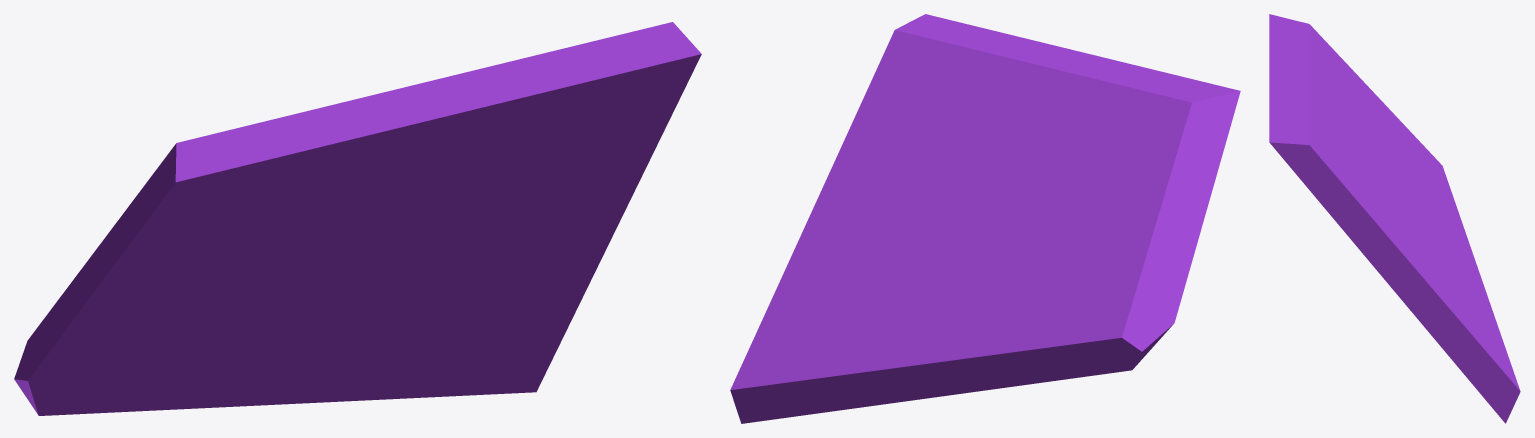
The model's file is Window_125_2_chunks.fbx.
The picture shows the model from 3 angles, left to right: view 1: azimuth 30°, elevation 25°; view 2: azimuth 150°, elevation 25°; view 3: azimuth 270°, elevation 25°; orthographic projection. The views are drawn at different scales.
Parts seen in each view (by area): view 1: Window_125_2_7, Window_125_2_1, Window_125_2_9, Window_125_2_0, Window_125_2_3, Window_125_2_6, Window_125_2_4, Window_125_2_8, Window_125_2_2; view 2: Window_125_2_1, Window_125_2_3, Window_125_2_7, Window_125_2_4, Window_125_2_9, Window_125_2_5, Window_125_2_8, Window_125_2_2, Window_125_2_6, Window_125_2_0; view 3: Window_125_2_3, Window_125_2_4, Window_125_2_9, Window_125_2_7, Window_125_2_1, Window_125_2_6, Window_125_2_5, Window_125_2_8, Window_125_2_2.
Part boxes in pixels (bbox=[...]): Window_125_2_7: bbox=[121, 113, 395, 285]; Window_125_2_1: bbox=[14, 205, 284, 415]; Window_125_2_9: bbox=[297, 22, 700, 183]; Window_125_2_0: bbox=[207, 214, 488, 407]; Window_125_2_3: bbox=[329, 254, 603, 402]; Window_125_2_6: bbox=[371, 53, 701, 225]; Window_125_2_4: bbox=[426, 143, 657, 298]; Window_125_2_8: bbox=[298, 222, 465, 281]; Window_125_2_2: bbox=[376, 288, 437, 346]; Window_125_2_1: bbox=[985, 176, 1215, 388]; Window_125_2_3: bbox=[730, 241, 923, 423]; Window_125_2_7: bbox=[1041, 68, 1240, 223]; Window_125_2_4: bbox=[798, 91, 991, 268]; Window_125_2_9: bbox=[887, 14, 1146, 138]; Window_125_2_5: bbox=[882, 199, 1017, 366]; Window_125_2_8: bbox=[899, 110, 1051, 231]; Window_125_2_2: bbox=[920, 221, 1030, 395]; Window_125_2_6: bbox=[867, 14, 957, 118]; Window_125_2_0: bbox=[905, 378, 999, 401]; Window_125_2_3: bbox=[1409, 259, 1520, 423]; Window_125_2_4: bbox=[1331, 170, 1436, 308]; Window_125_2_9: bbox=[1269, 52, 1347, 155]; Window_125_2_7: bbox=[1269, 14, 1390, 149]; Window_125_2_1: bbox=[1351, 69, 1468, 241]; Window_125_2_6: bbox=[1269, 142, 1355, 216]; Window_125_2_5: bbox=[1386, 167, 1483, 283]; Window_125_2_8: bbox=[1343, 118, 1398, 182]; Window_125_2_2: bbox=[1394, 165, 1480, 275].
Bounding box in the file's own units: 782 × 637 × 549.
